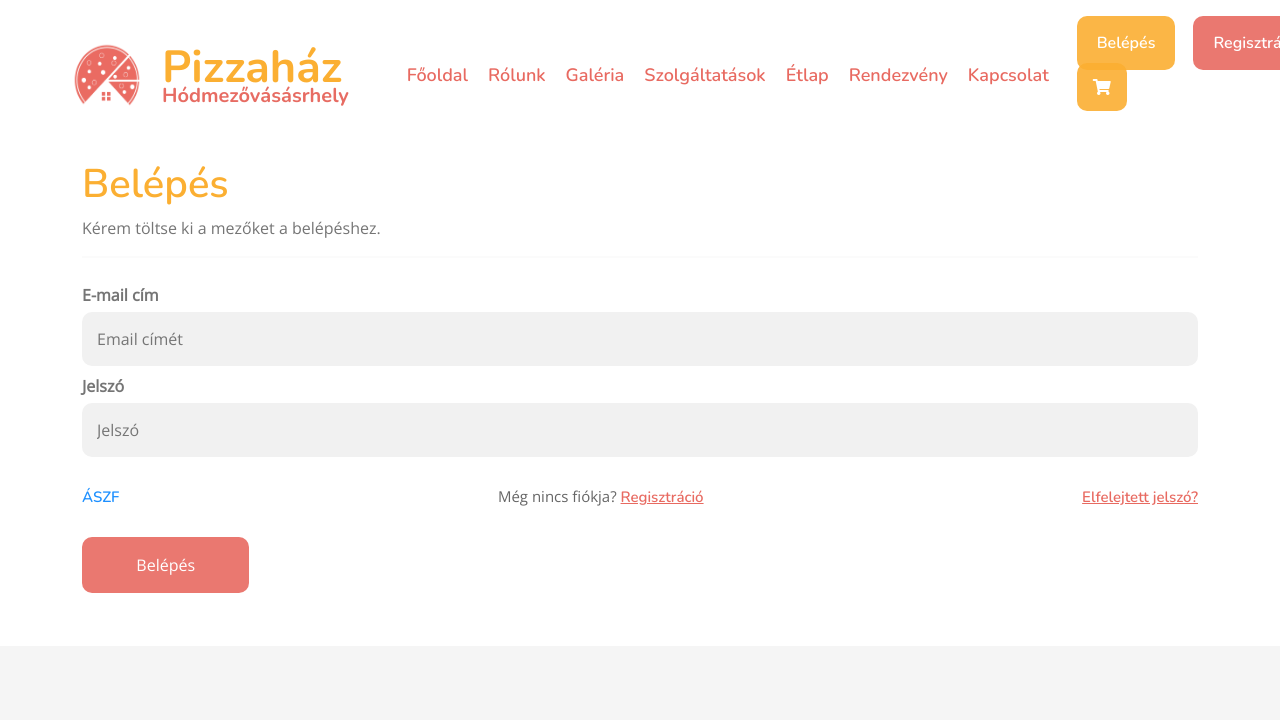
Scenario: Fejlett funkcionalitások: Bejelentkezés validáció és hibakezelés › Figyelmeztetést mutat, ha üres adatokkal próbálunk bejelentkezni
Click the button with class "loginbtn": coordinates (166, 565) [82,537,249,593]
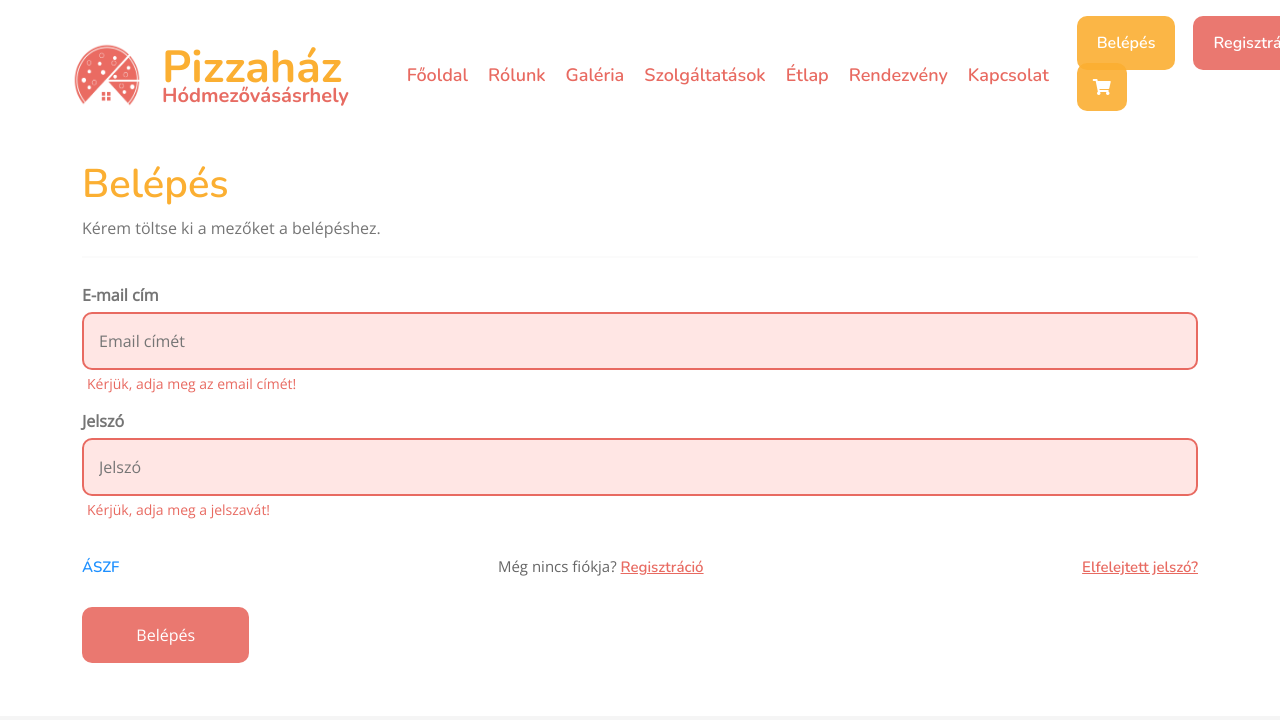
Check: the text with class "error-message" reads "Kérjük, adja meg az email címét!", box [87,374,296,393]
Check: the text with class "error-message" reads "Kérjük, adja meg a jelszavát!", box [87,500,270,519]
